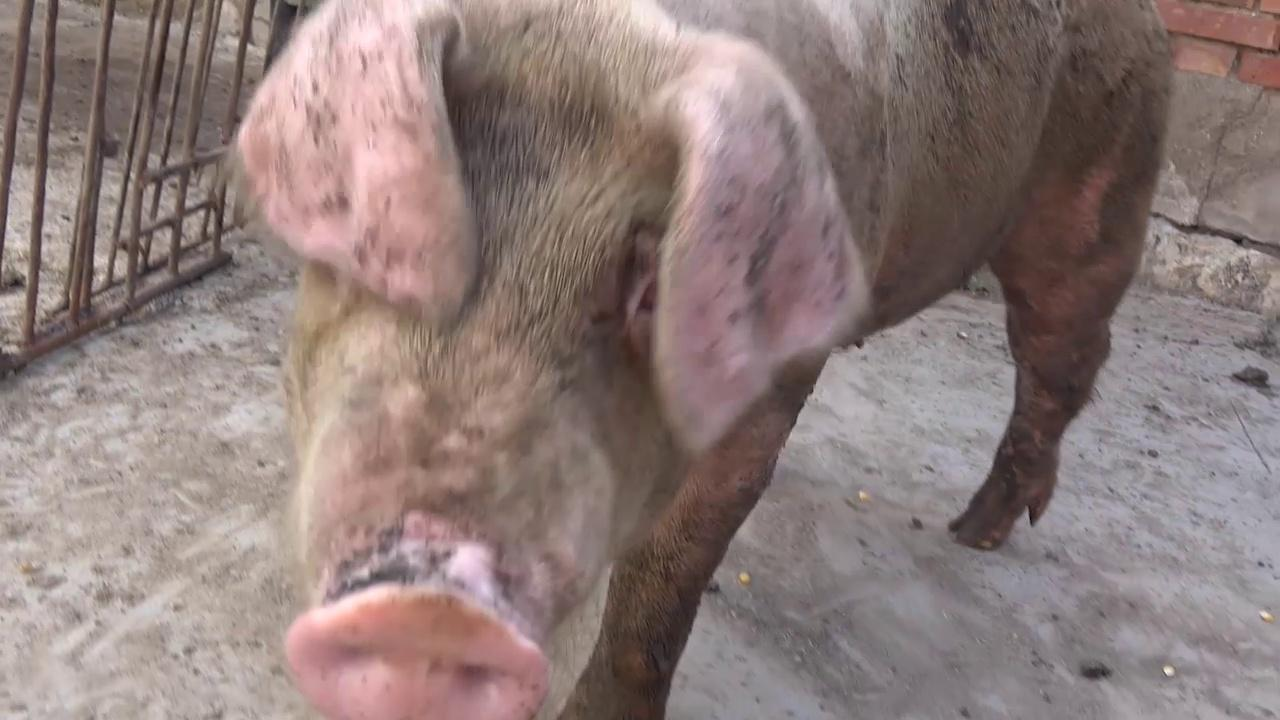Face: (215, 0, 882, 720)
